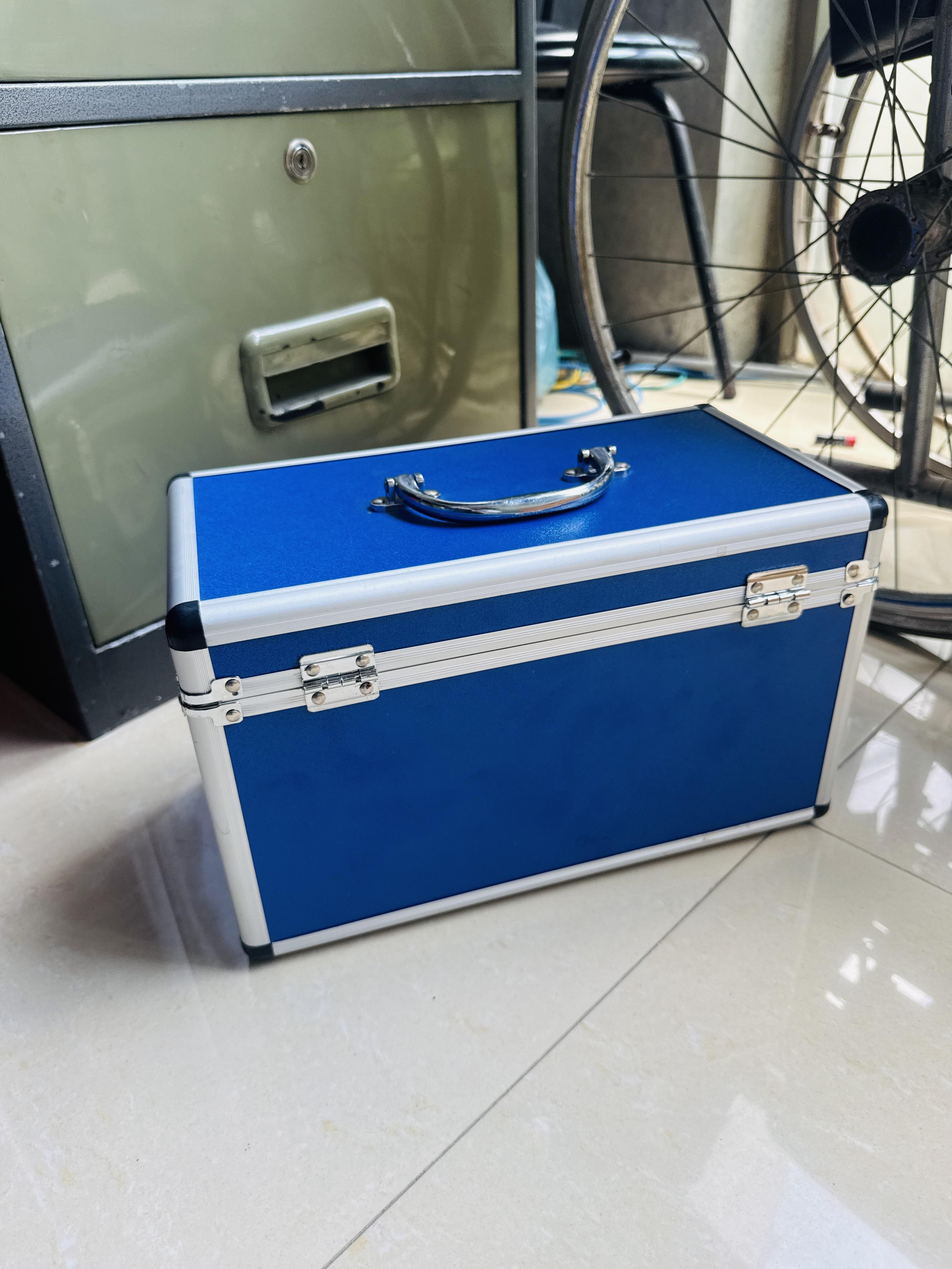FirstAidBox: (132, 385, 906, 998)
